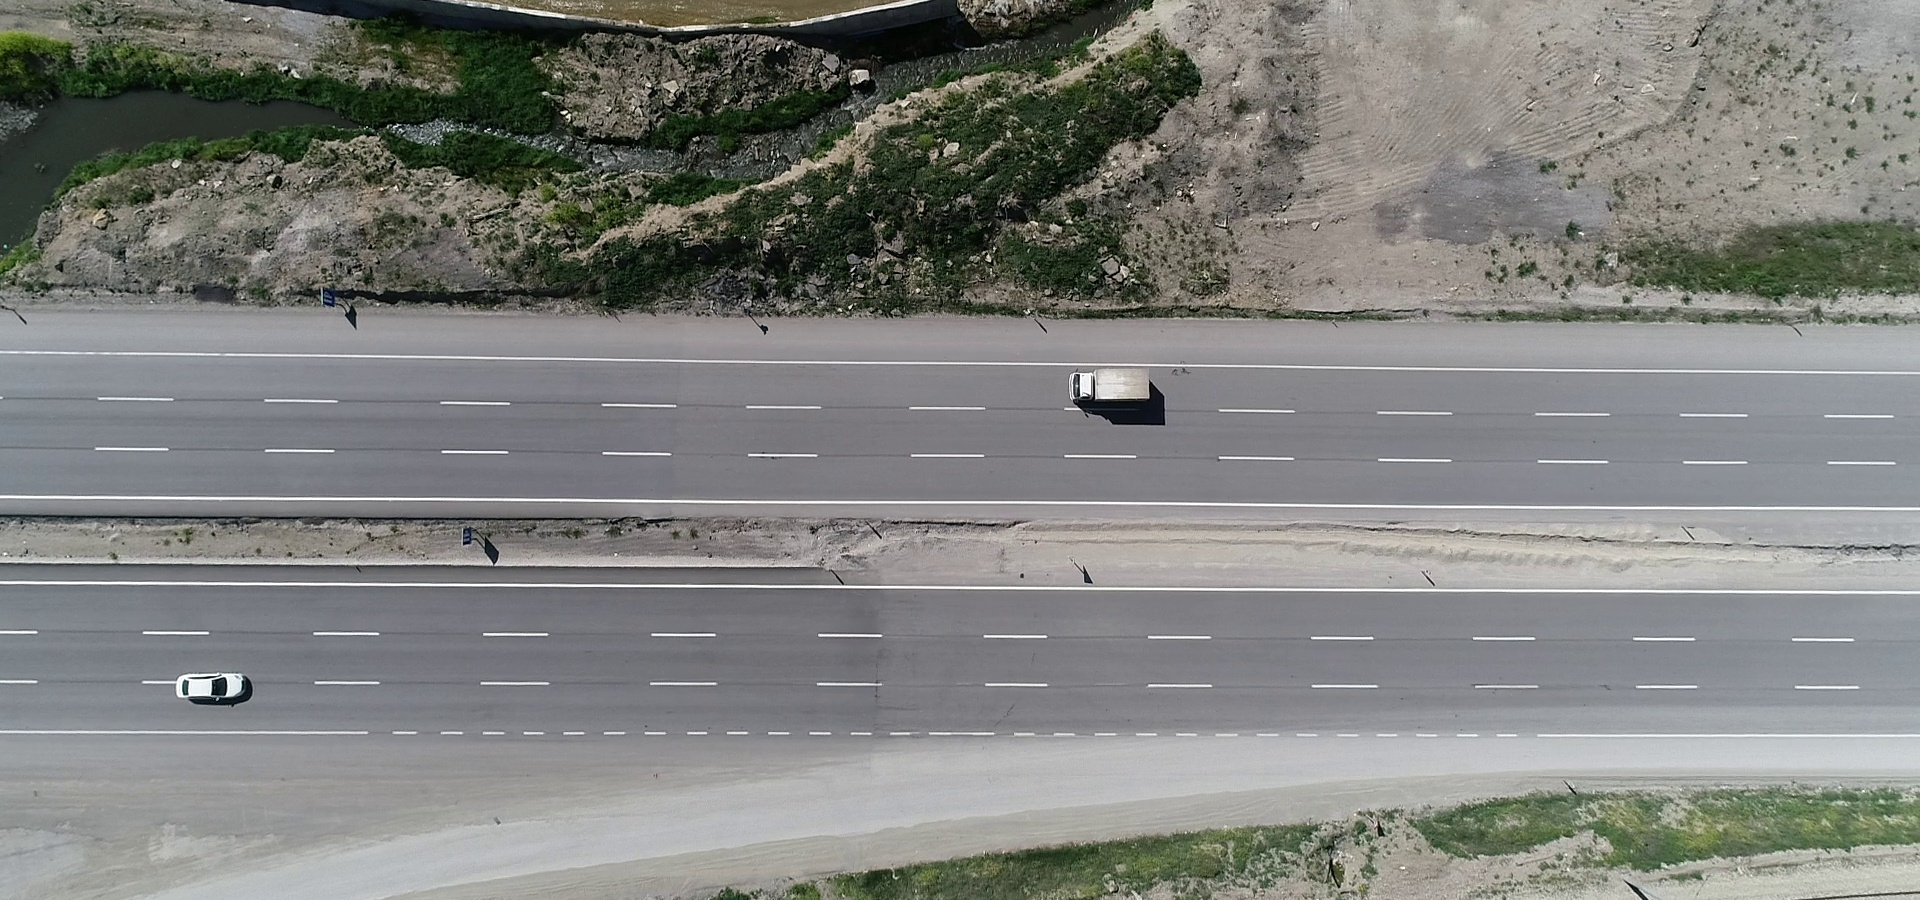arac: (1064, 362, 1160, 410), (171, 669, 269, 703)
